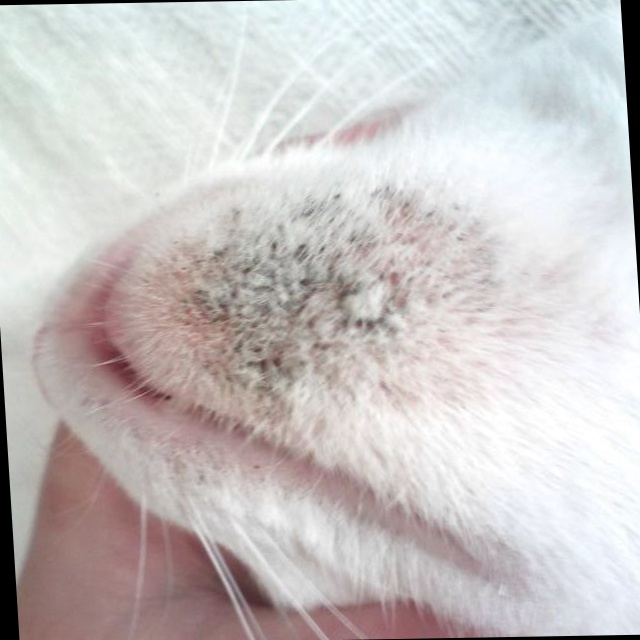acne: (169, 182, 430, 397)
